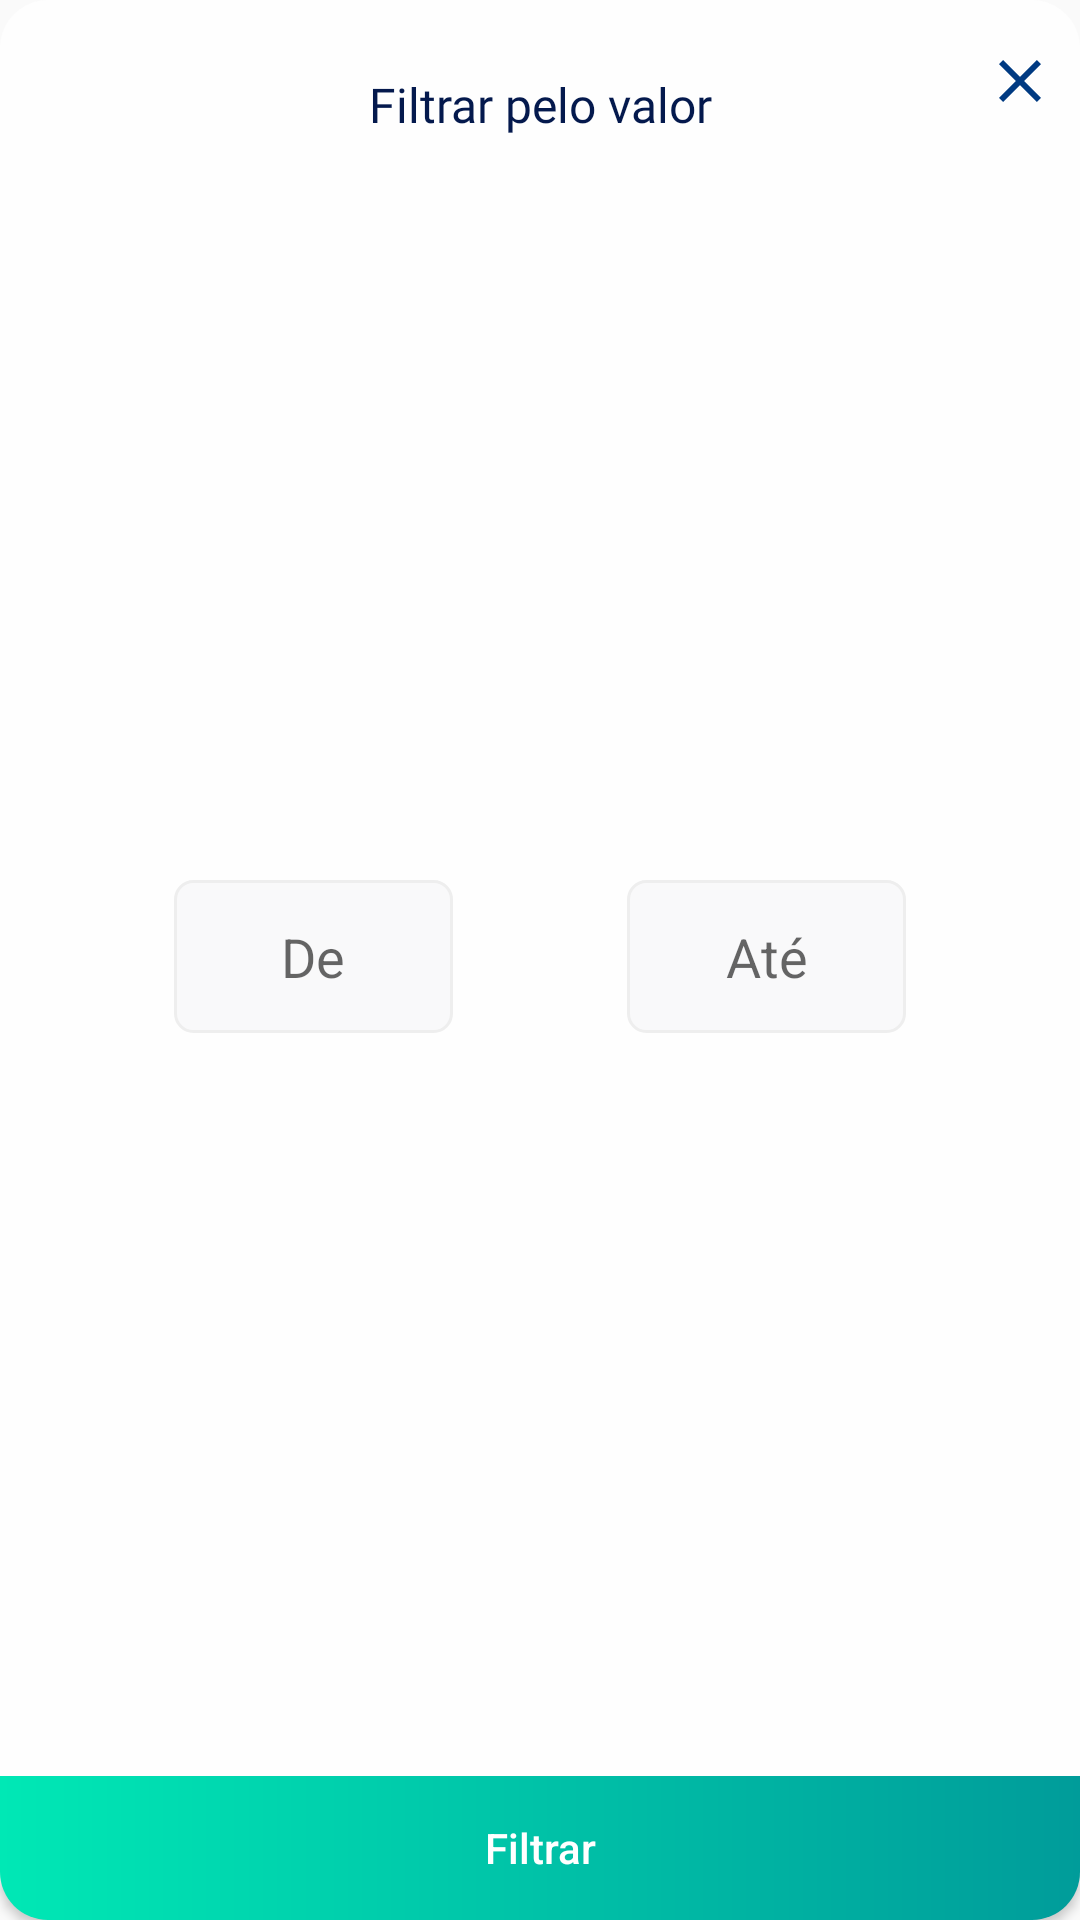

Icons on this 1080x1920 Android screen, each with its box as [left=x1, top=y1, right=x2, bottom=y2]:
close: [left=999, top=60, right=1041, bottom=102]
